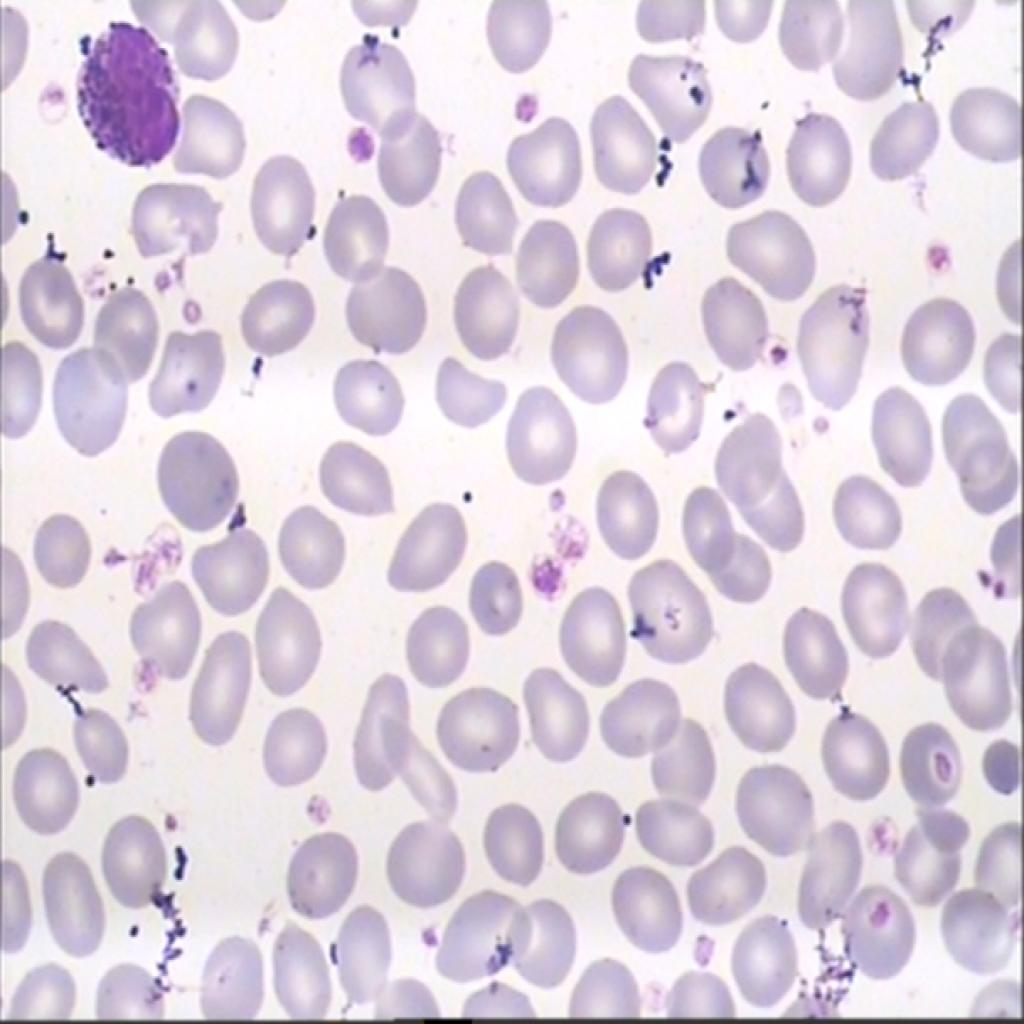Basofil: (68, 20, 199, 182)
Platelet: (509, 537, 558, 604), (914, 229, 973, 281), (343, 119, 387, 178), (546, 505, 590, 563), (513, 80, 542, 135), (758, 332, 791, 378)
